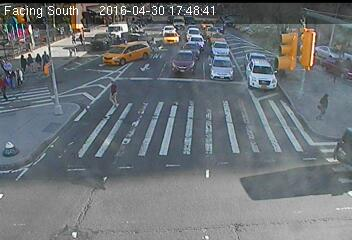neg: (202, 151, 227, 183), (322, 132, 346, 165), (205, 27, 229, 58), (280, 29, 303, 60), (110, 22, 133, 53), (6, 132, 26, 158), (261, 166, 281, 192), (52, 181, 72, 207), (181, 111, 200, 137), (99, 154, 117, 177), (176, 51, 193, 73), (131, 108, 147, 129)
pos: (105, 80, 128, 111), (315, 90, 337, 120), (16, 49, 30, 68), (13, 68, 26, 85), (42, 49, 53, 64), (35, 51, 45, 66), (26, 52, 36, 66)
